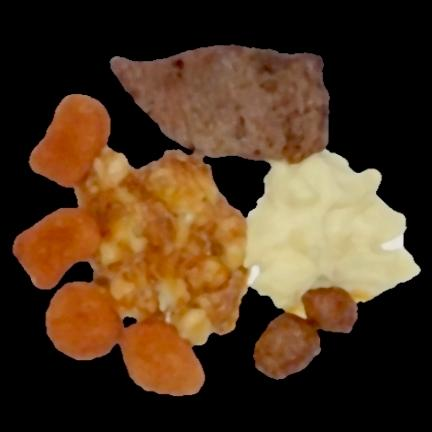carrot: (30, 96, 109, 188)
meat: (110, 45, 329, 163)
potato: (245, 151, 418, 317)
sausage: (253, 287, 356, 380)
